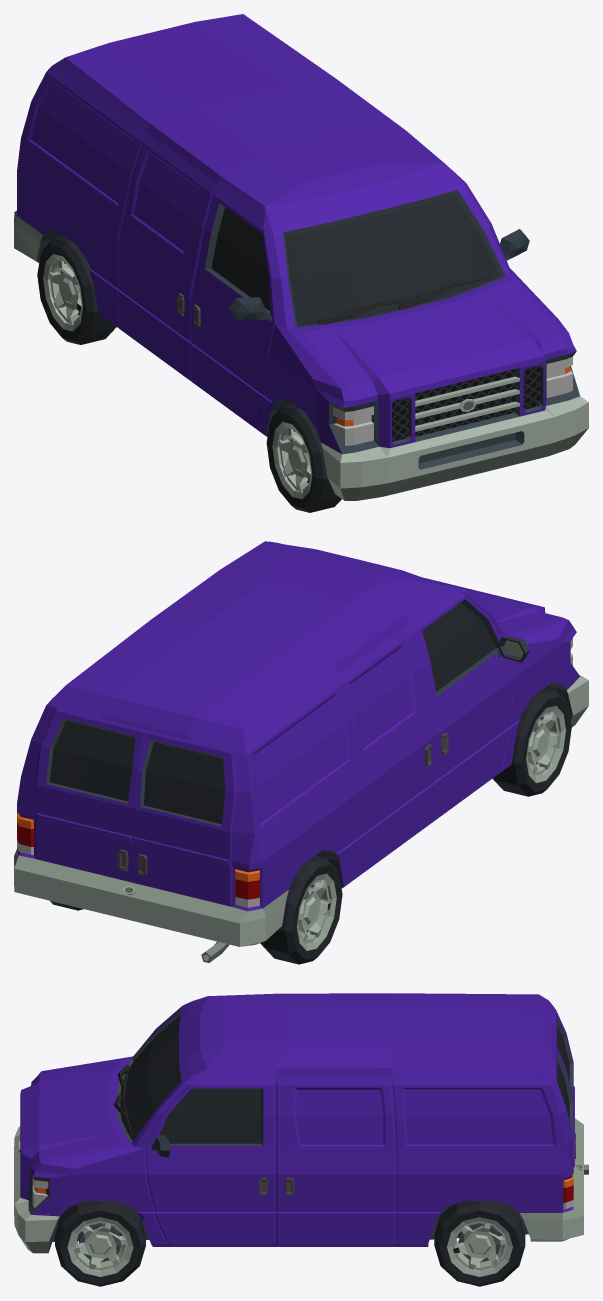
File: Van_Blue.fbx
The picture shows the model from 3 angles, top to bottom: view 1: azimuth 30°, elevation 25°; view 2: azimuth 150°, elevation 25°; view 3: azimuth 270°, elevation 25°; orthographic projection. The views are drawn at different scales.
Parts seen in each view (by area): view 1: SM_Van_1, SM_Veh_Car_Van_Wheel_rr, SM_Veh_Car_Van_Wheel_fr; view 2: SM_Van_1, SM_Veh_Car_Van_Wheel_rr, SM_Veh_Car_Van_Wheel_fr; view 3: SM_Van_1, SM_Veh_Car_Van_Wheel_rl, SM_Veh_Car_Van_Wheel_fl.
Part boxes in pixels (x1,y1,x2,y2): SM_Van_1: (14,14,588,500); SM_Veh_Car_Van_Wheel_rr: (37,236,116,344); SM_Veh_Car_Van_Wheel_fr: (266,404,341,512); SM_Van_1: (14,541,588,962); SM_Veh_Car_Van_Wheel_rr: (260,855,342,964); SM_Veh_Car_Van_Wheel_fr: (492,687,571,796); SM_Van_1: (14,993,588,1253); SM_Veh_Car_Van_Wheel_rl: (434,1201,525,1286); SM_Veh_Car_Van_Wheel_fl: (55,1201,145,1286).
Size of the model in its own units: 2.83 by 2.32 by 5.75.
